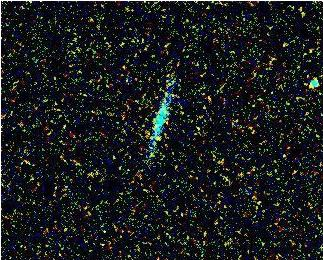star: (136, 122, 166, 152)
